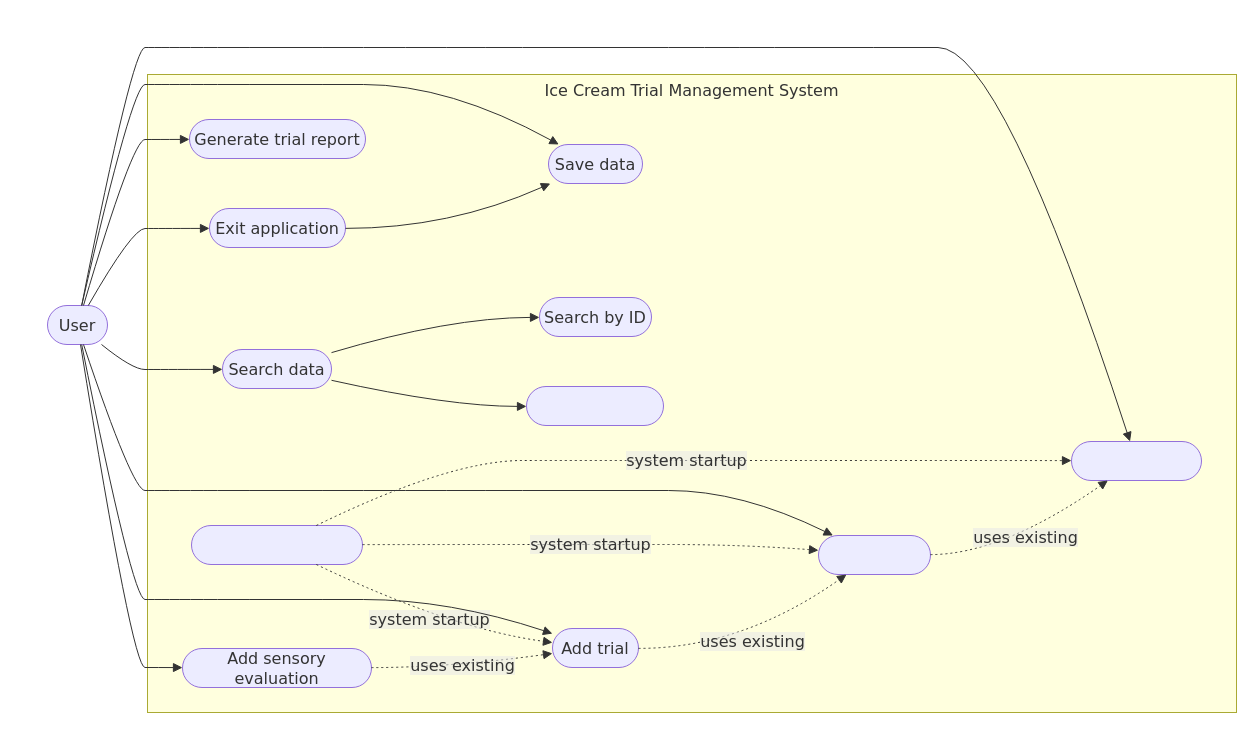
Image size: 1254x730. Some labels were removed from this diagram. Each missing label, with the centre of its shape:
"Add formula" belongs at [874,554].
"Add ingredient" belongs at [1136,460].
"Load data at startup" belongs at [276,544].
"Search by name" belongs at [595,406].
